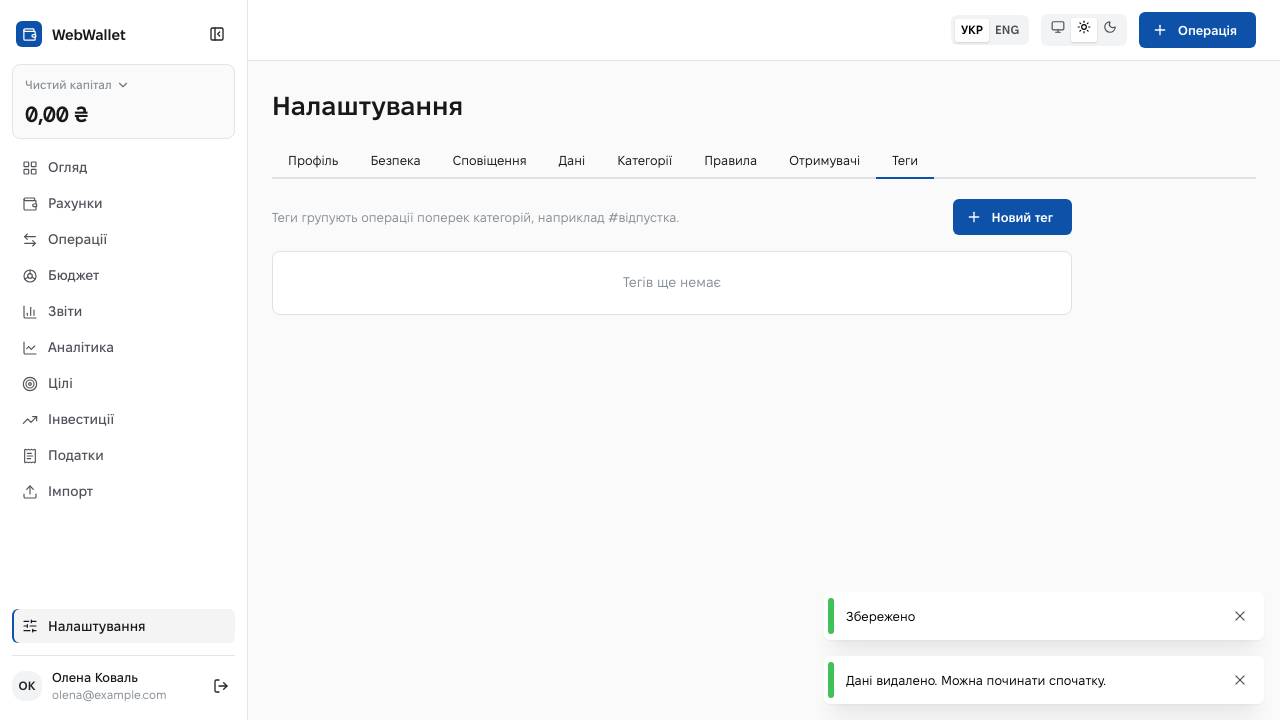
Scenario: creates a tag with a color
Click the button "Новий тег": (1012, 217) [953,199,1072,235]
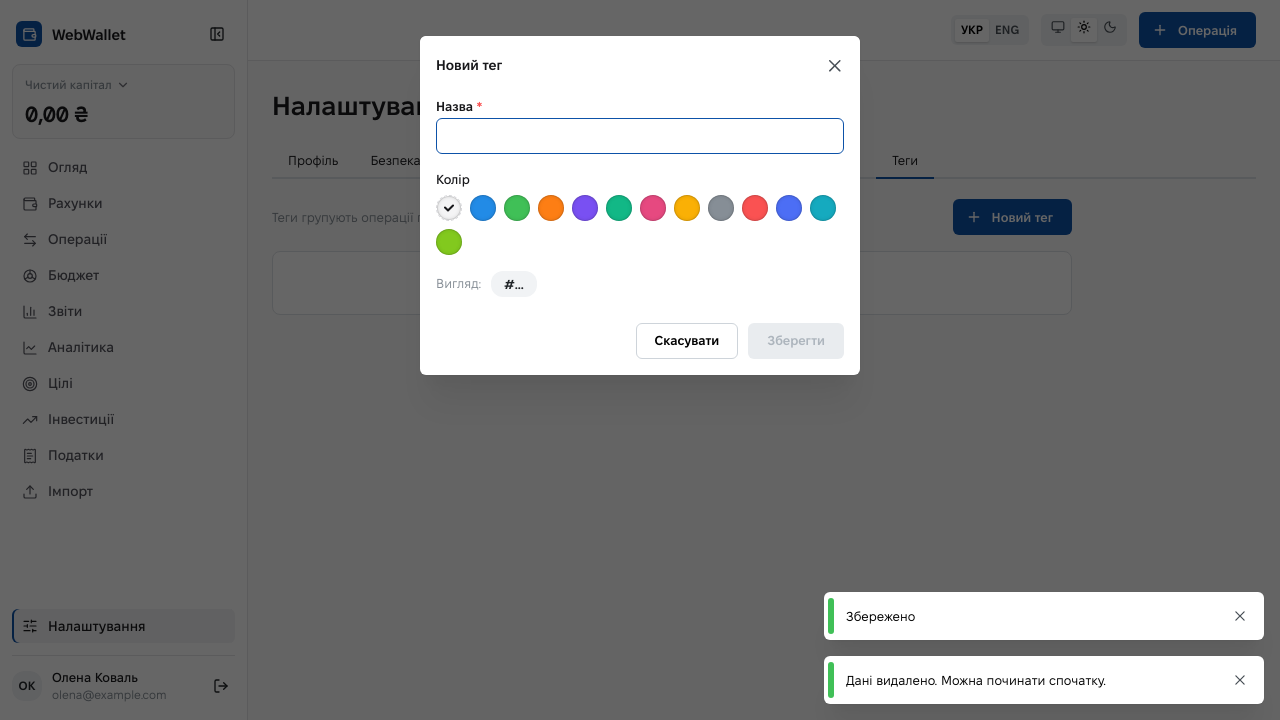
In the field labelled "Назва *": (640, 136) [436,118,844,154], type "відпустка"
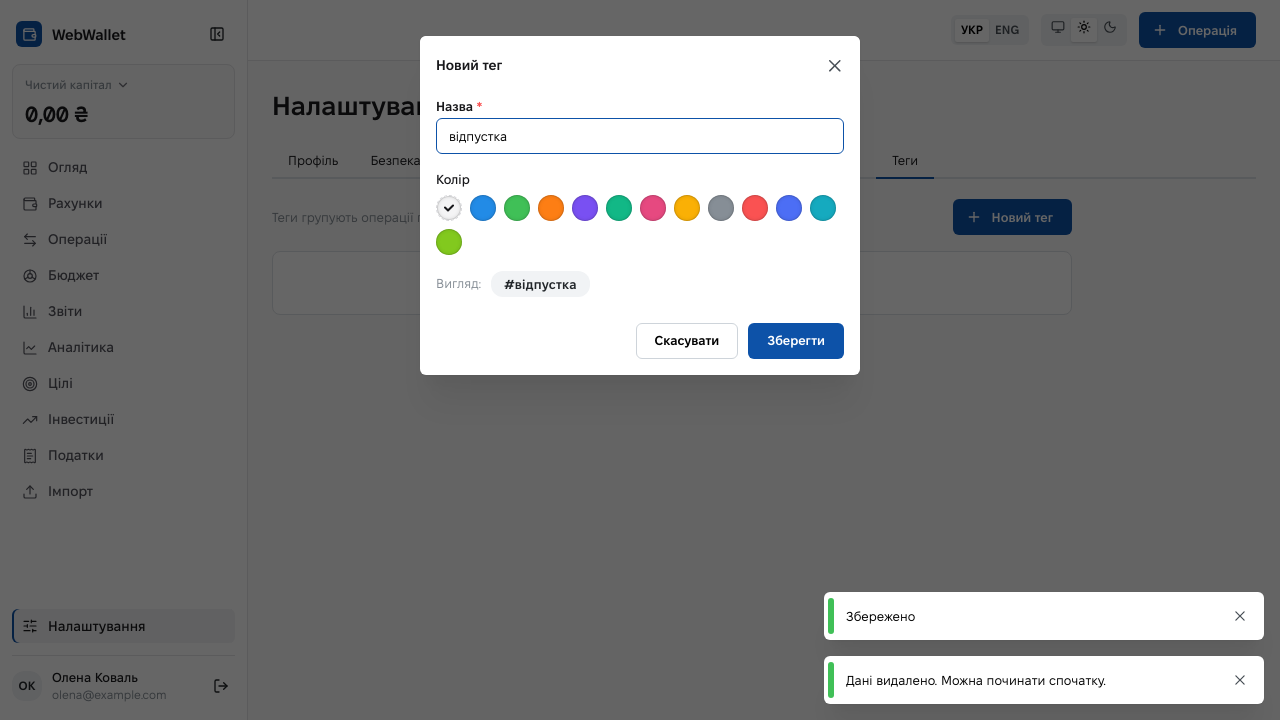
Click the radio button named "Блакитний": (823, 208) [810,194,836,220]
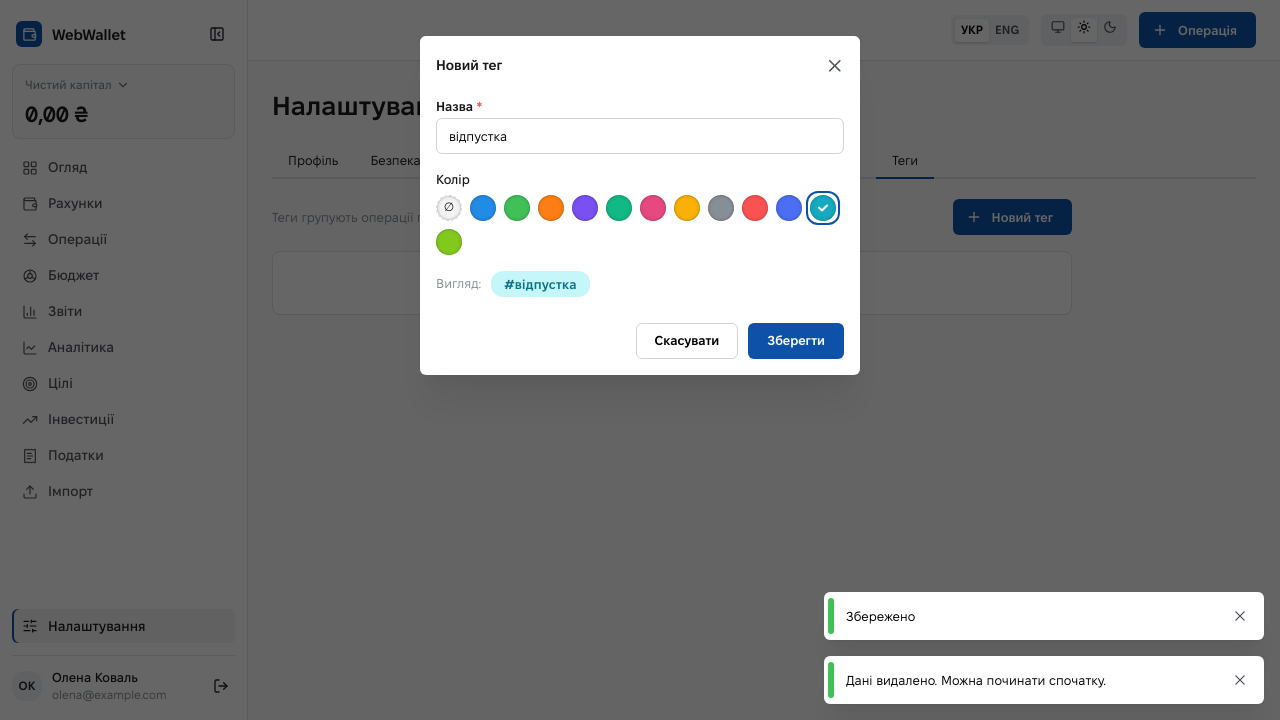
Click the button "Зберегти": (796, 340) [748,322,844,358]
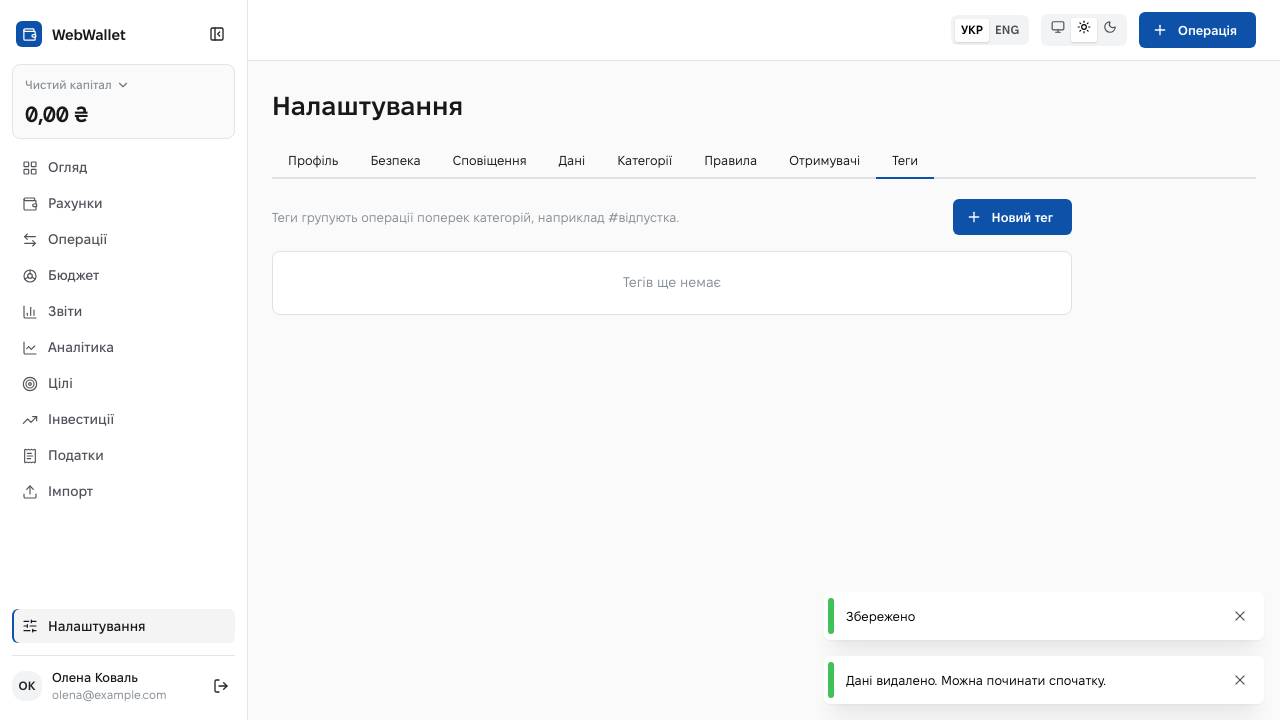
Check: the dialog is gone
